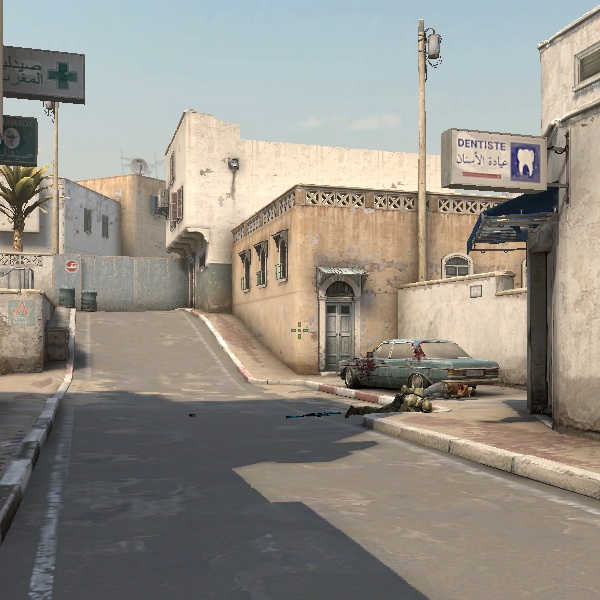ct_body: (368, 341, 446, 416)
